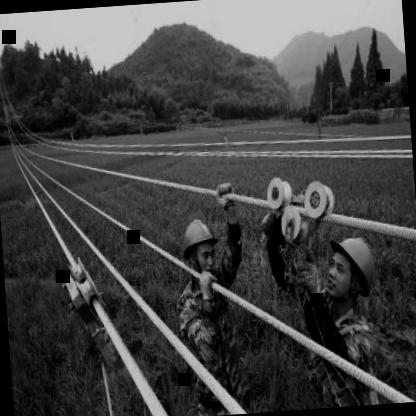helmet: (320, 230, 385, 310), (178, 214, 220, 280)
